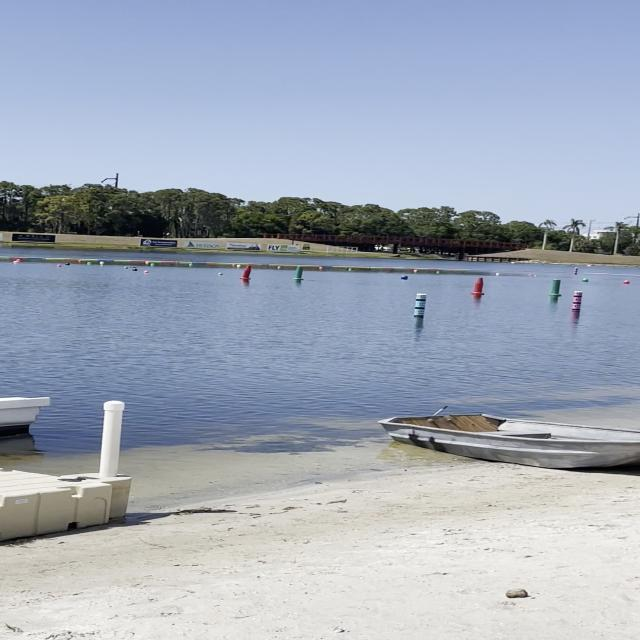buoy: (400, 274, 408, 278), (582, 278, 590, 282), (623, 280, 630, 284), (143, 270, 150, 274), (12, 261, 20, 264), (145, 260, 150, 264), (435, 270, 440, 274), (56, 264, 62, 267), (16, 258, 22, 261), (218, 272, 224, 275), (318, 266, 324, 269), (132, 268, 138, 271), (150, 262, 154, 266), (413, 268, 417, 272), (496, 272, 500, 276), (123, 266, 128, 269), (65, 262, 70, 265), (87, 262, 91, 265), (100, 264, 104, 267), (188, 263, 192, 266), (276, 266, 282, 268), (238, 264, 242, 267), (348, 268, 353, 270), (533, 274, 538, 276), (99, 262, 104, 264), (78, 260, 82, 262), (528, 274, 532, 276), (232, 264, 235, 266)
